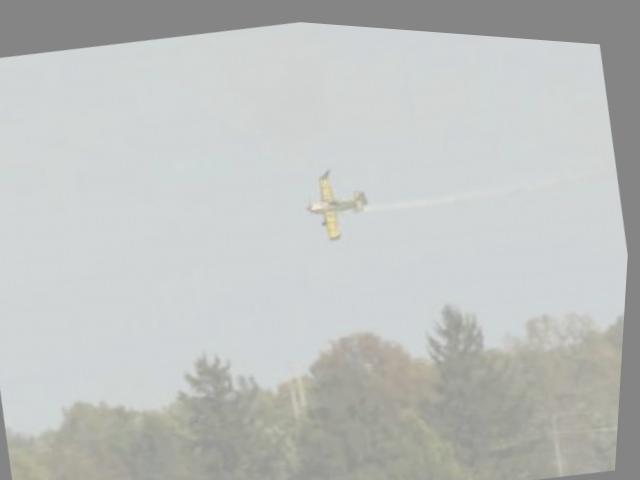uav: (293, 152, 384, 246)
